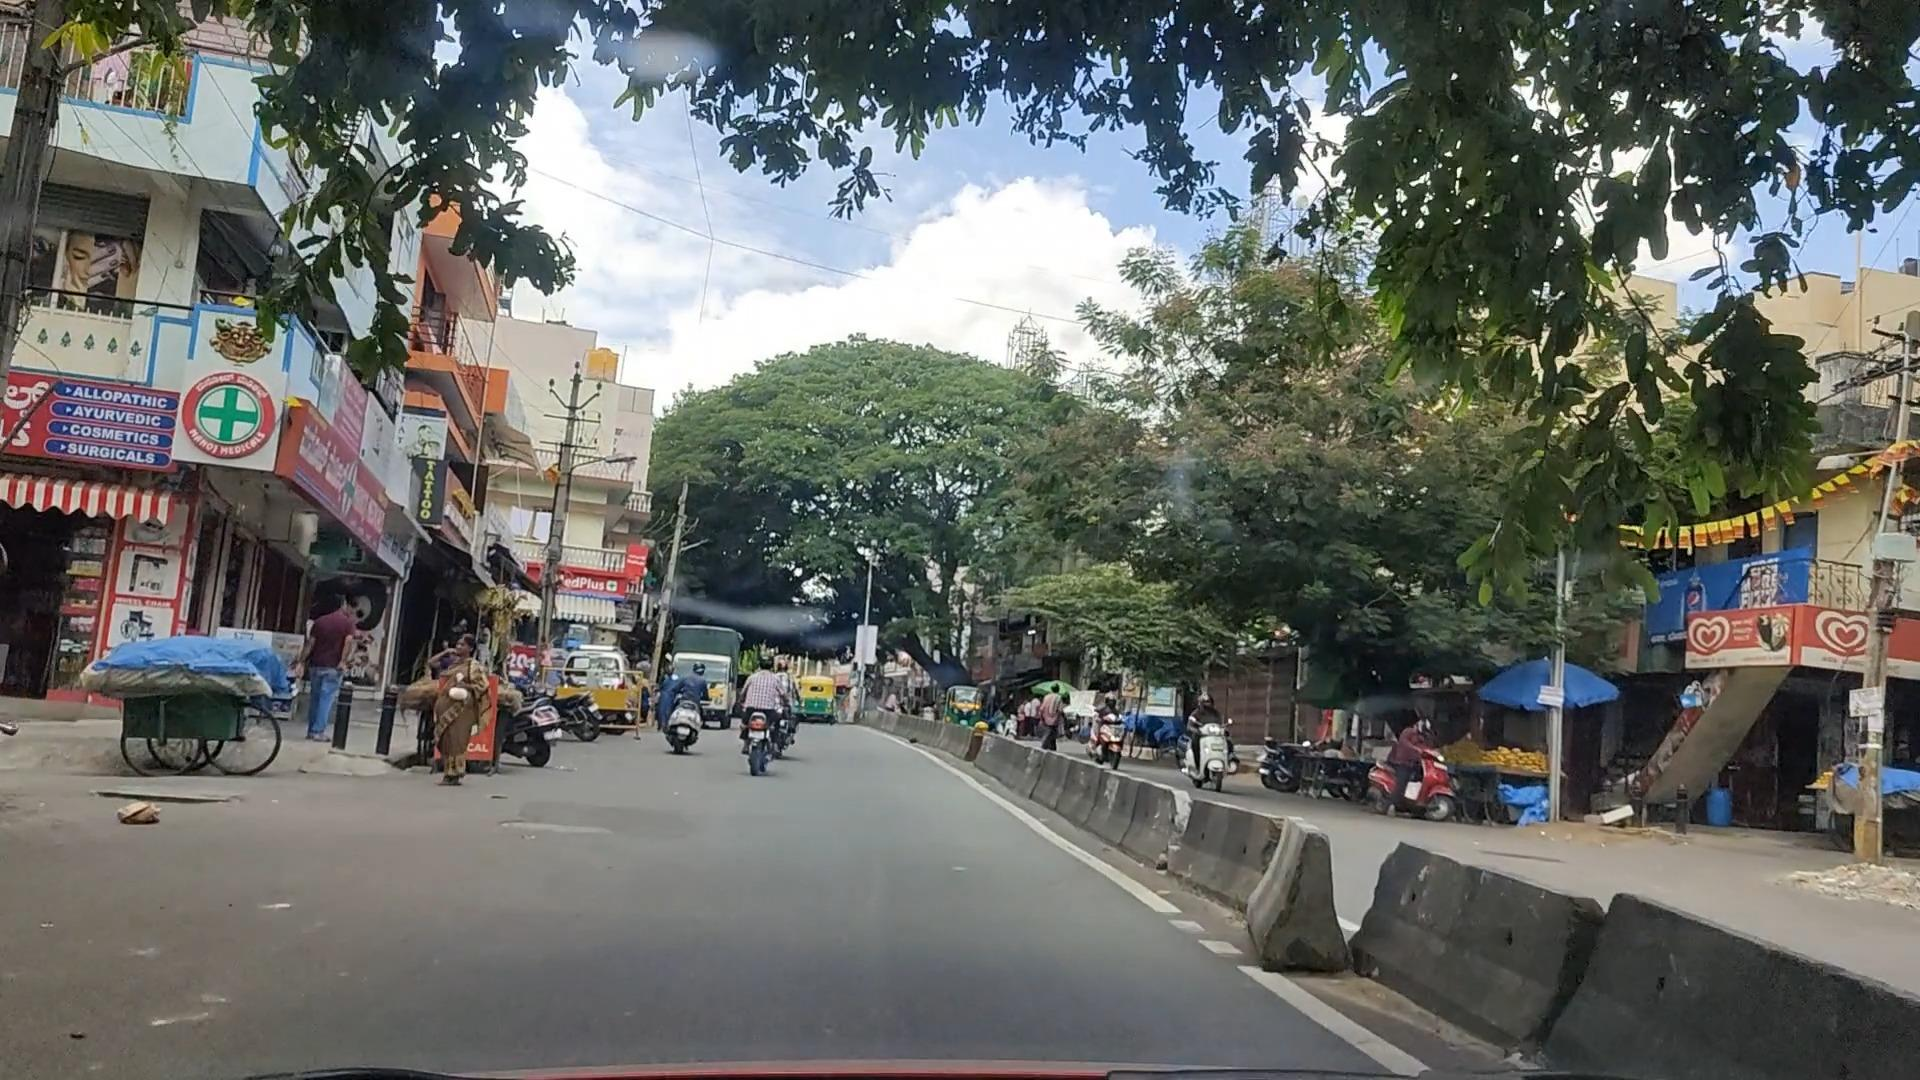RoadDamages: (66, 903, 277, 1051), (502, 790, 686, 881)
